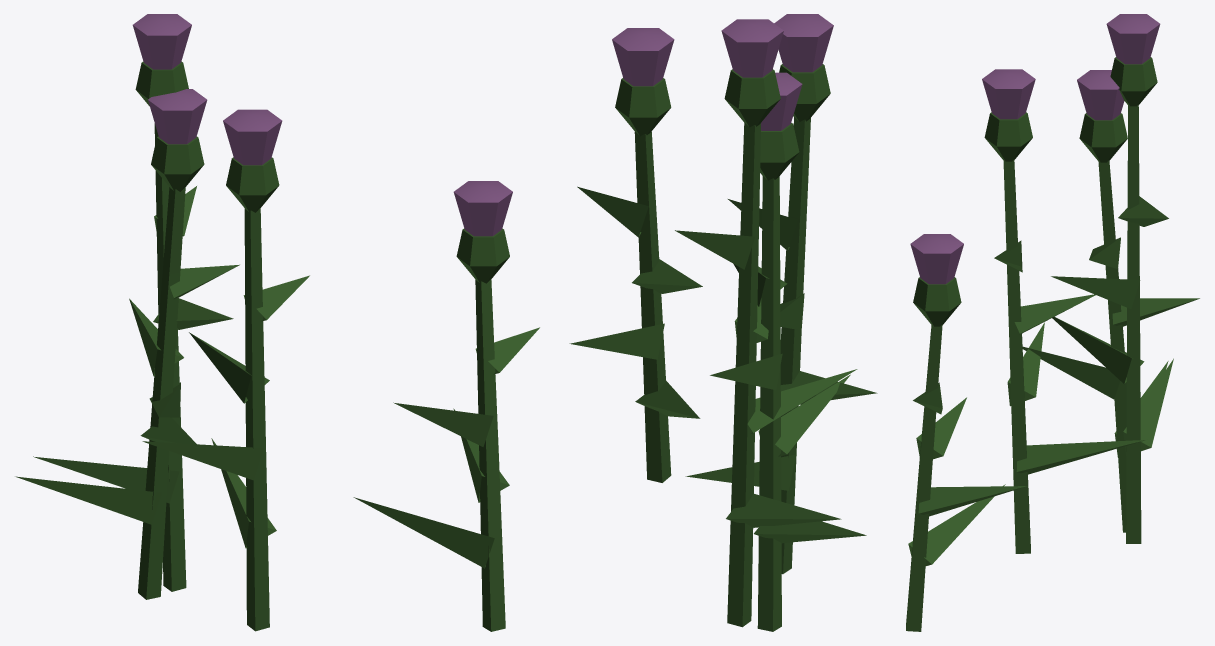
Rendered from Thistles.fbx.
The picture shows the model from 3 angles, left to right: view 1: azimuth 30°, elevation 25°; view 2: azimuth 150°, elevation 25°; view 3: azimuth 270°, elevation 25°; orthographic projection. The views are drawn at different scales.
Parts seen in each view (by area): view 1: Thistles; view 2: Thistles; view 3: Thistles.
Boxes of the visible parts, <box> form: Thistles: <box>15,14,539,631</box>; Thistles: <box>569,14,877,631</box>; Thistles: <box>906,14,1199,631</box>.
Size of the model in its own units: 0.7784 by 1.06 by 0.5474.
